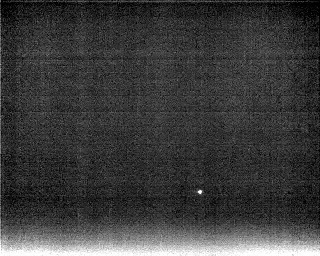BIRD: (195, 187, 205, 198)
